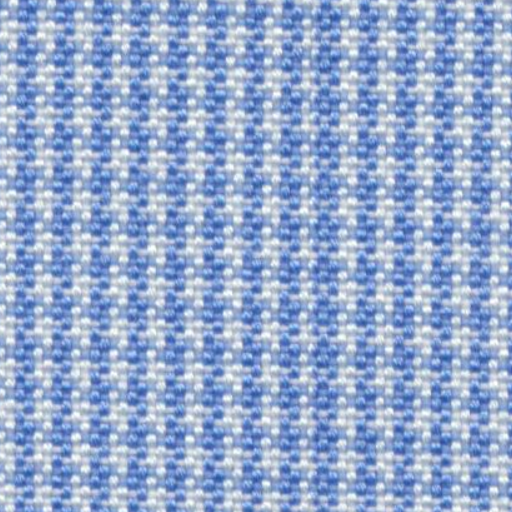TuoSha: (272, 10, 378, 506)
